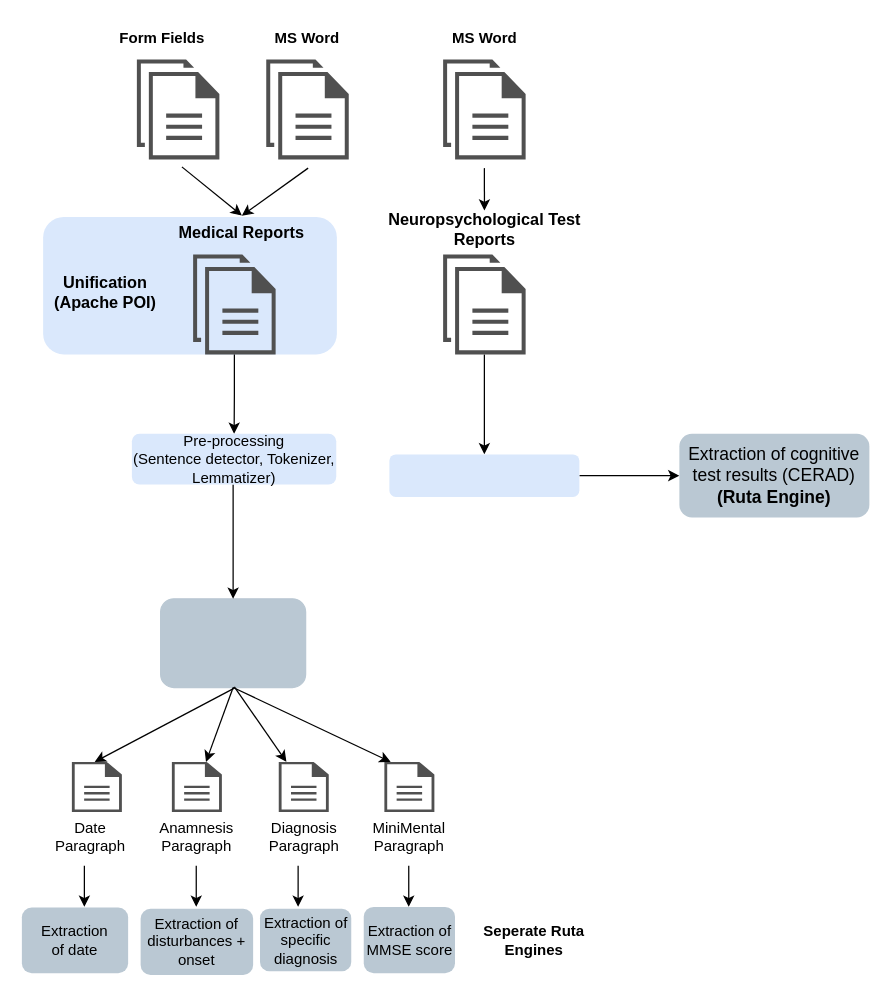
Some shapes in this 890 by 996 pixel diagram are drawn without their labels. The shapes that lost their labels are listed below. From the top down, each one's box as (x1, y1, x2, y2) in pixels, then its label:
(389, 454, 579, 496): Extraction of table (Apache POI)
(159, 598, 306, 688): Extraction of paragraph of interest (Ruta Engine)
